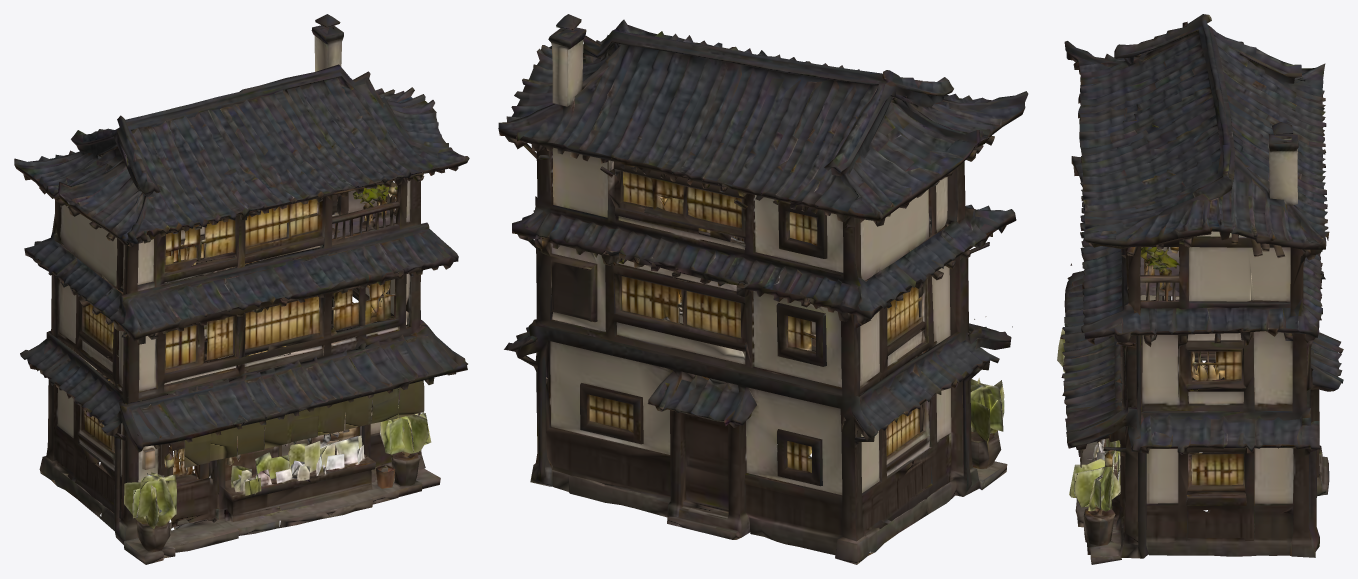
Rendered from candidate.glb.
3 renders of one model, left to right at view 1: azimuth 30°, elevation 25°; view 2: azimuth 150°, elevation 25°; view 3: azimuth 270°, elevation 25°, orthographic. The views are drawn at different scales.
Visible parts, largest first — view 1: compact__shop_3__native_mobile; view 2: compact__shop_3__native_mobile; view 3: compact__shop_3__native_mobile.
Part boxes in pixels (box(x1,y1,x2,y2)): compact__shop_3__native_mobile: box(14, 14, 469, 564); compact__shop_3__native_mobile: box(498, 14, 1028, 564); compact__shop_3__native_mobile: box(1057, 14, 1343, 564).
Bounding box in the file's own units: 0.9624 × 1 × 0.6031.
1 material, 1 textured.
